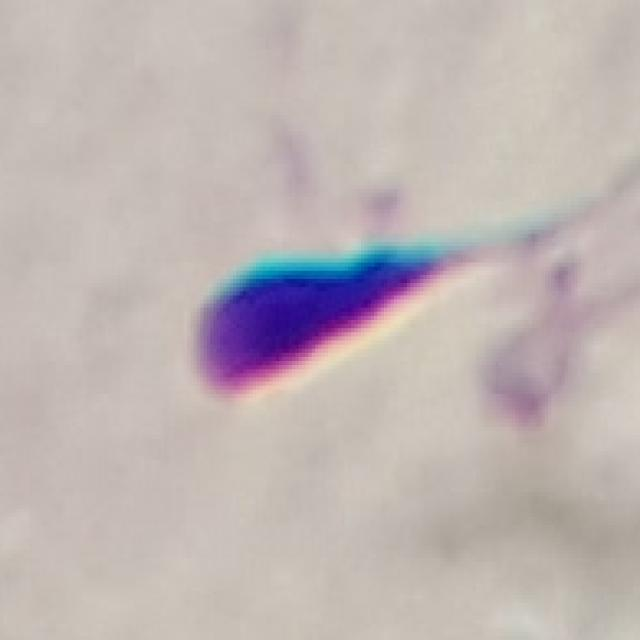abnormal sperm: (177, 154, 640, 418)
